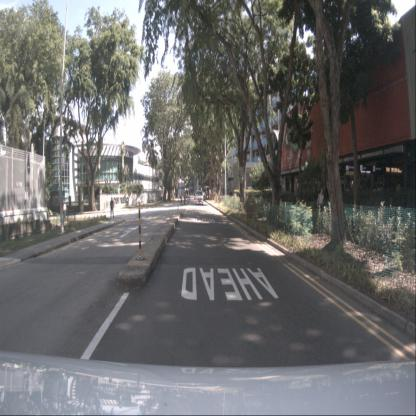human-pedestrian-adult: (316, 186, 324, 231), (63, 200, 68, 221), (110, 197, 114, 219), (180, 192, 183, 206), (184, 192, 186, 205)
vehicle-car: (195, 190, 204, 205)
